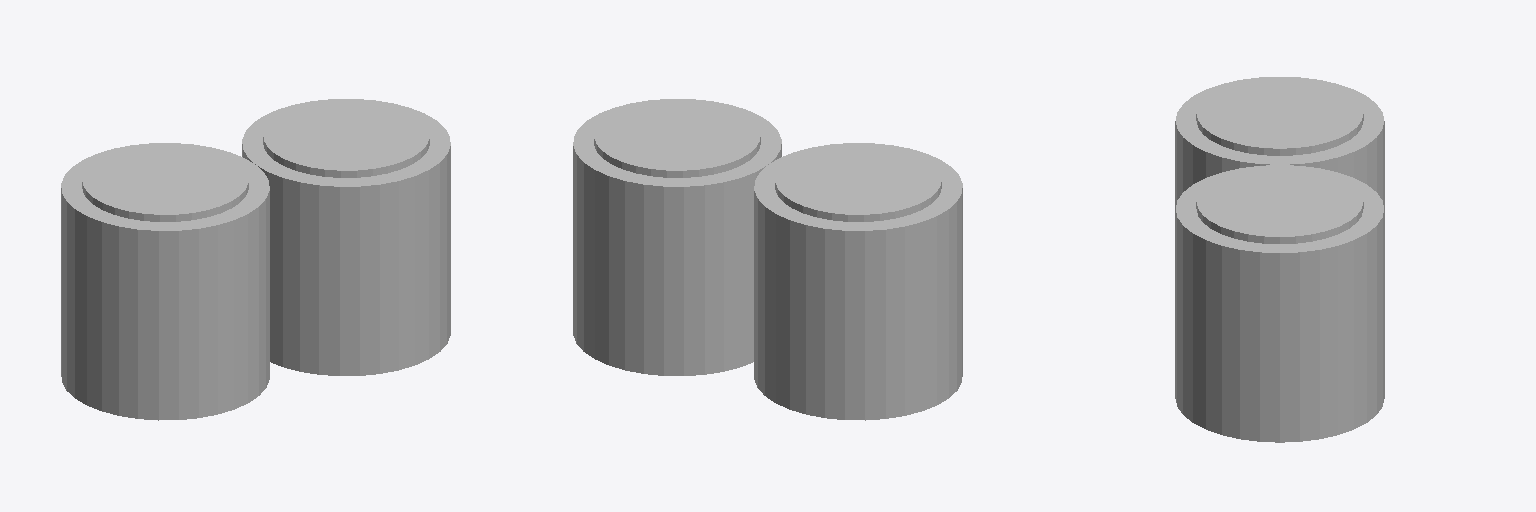
The model's file is bob_glasses.obj.
The picture shows the model from 3 angles: view 1: azimuth 30°, elevation 25°; view 2: azimuth 150°, elevation 25°; view 3: azimuth 270°, elevation 25°; orthographic projection.
Parts seen in each view (by area): view 1: Glasses_Cylinder.001, Glasses.001_Cylinder.002; view 2: Glasses_Cylinder.001, Glasses.001_Cylinder.002; view 3: Glasses.001_Cylinder.002, Glasses_Cylinder.001.
Boxes of the visible parts, box(x1,y1,x2,y2) form: Glasses_Cylinder.001: box(61, 143, 269, 420); Glasses.001_Cylinder.002: box(242, 99, 450, 375); Glasses_Cylinder.001: box(754, 143, 962, 420); Glasses.001_Cylinder.002: box(573, 99, 781, 375); Glasses.001_Cylinder.002: box(1175, 165, 1384, 442); Glasses_Cylinder.001: box(1175, 77, 1384, 208).
Bounding box in the file's own units: 0.8 × 0.4153 × 0.4.